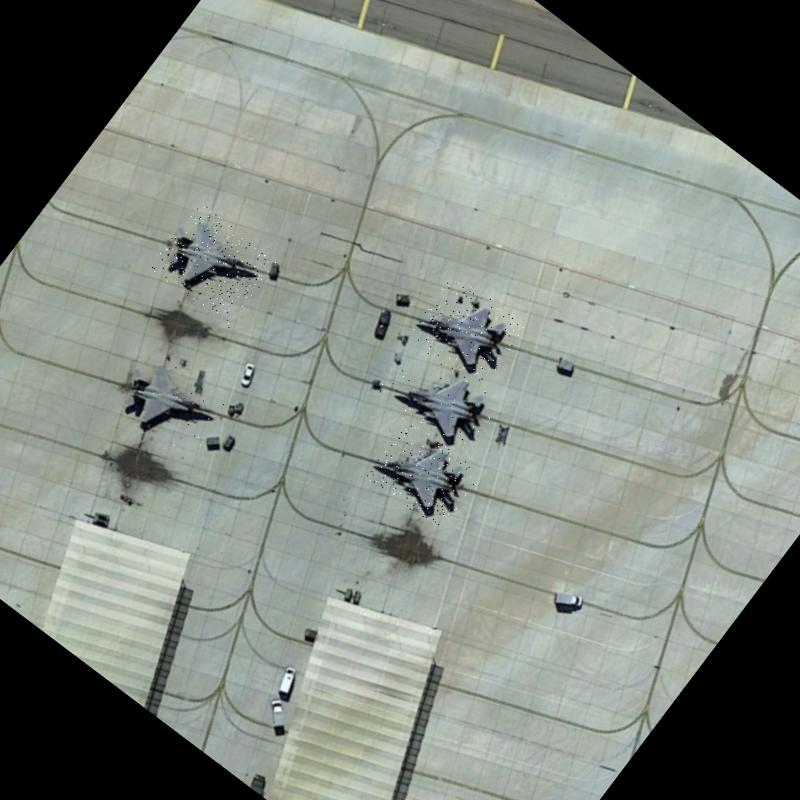A13: (102, 340, 239, 470), (370, 338, 504, 464), (149, 201, 279, 328), (408, 272, 528, 390), (365, 418, 484, 533)
